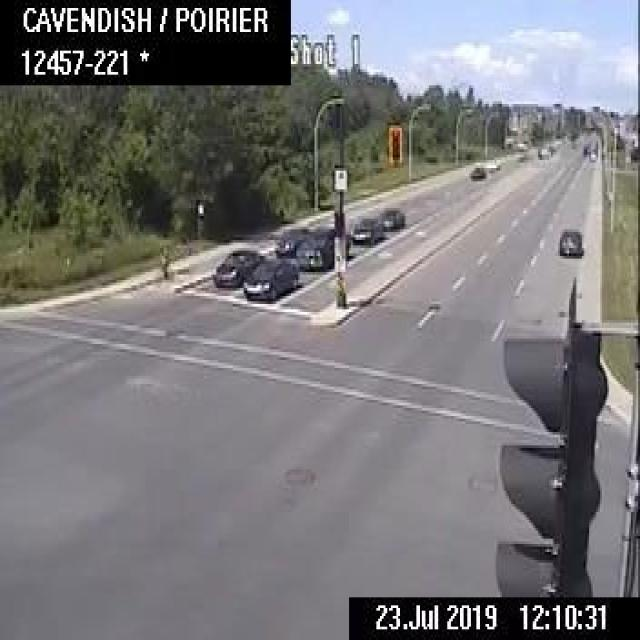vehicle: (241, 255, 297, 300), (294, 226, 350, 266), (211, 248, 261, 286), (349, 212, 382, 244), (273, 227, 308, 255), (558, 228, 582, 253), (376, 207, 404, 228), (468, 163, 484, 178)
